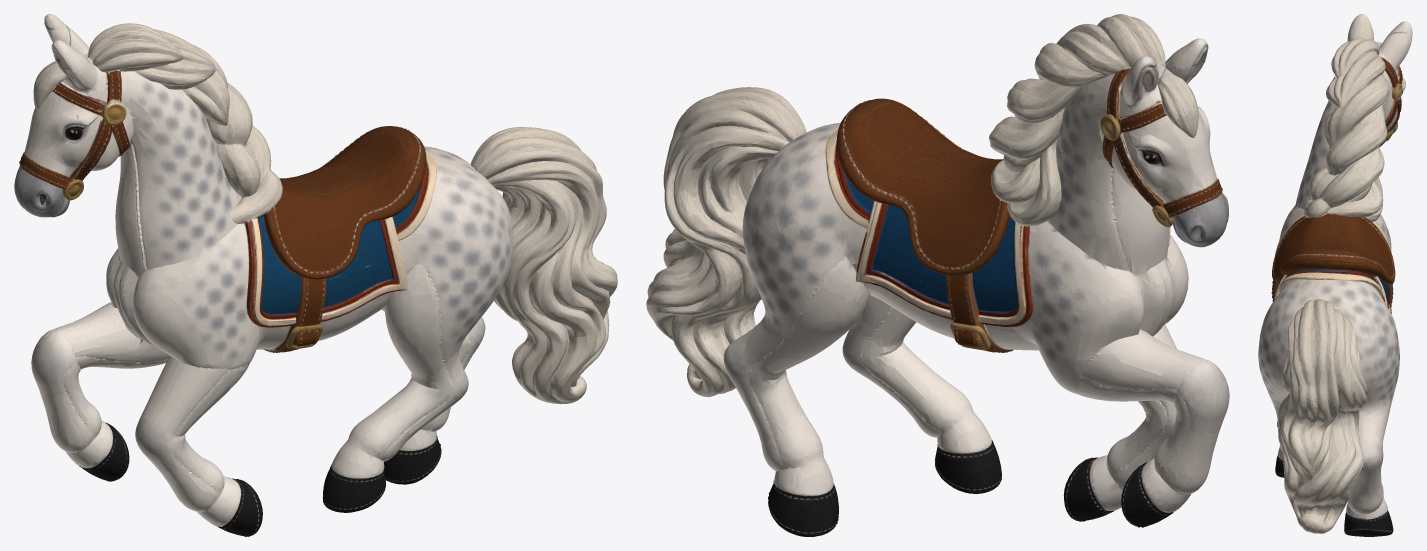
File: horse.glb
The picture shows the model from 3 angles, left to right: view 1: azimuth 30°, elevation 25°; view 2: azimuth 150°, elevation 25°; view 3: azimuth 270°, elevation 25°; orthographic projection. The views are drawn at different scales.
Bounding box in the file's own units: 1.9 × 1.73 × 0.6112.
1 material, 1 textured.
